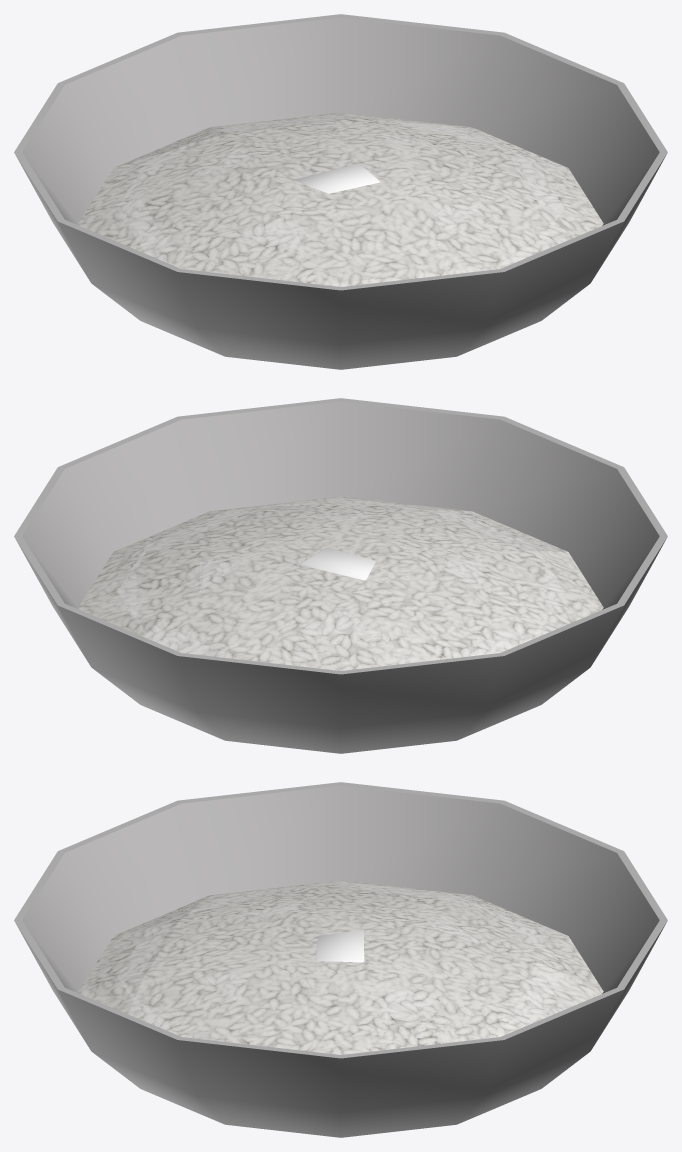
File: risengrod.glb
3 views of the same model, one above another, from view 1: azimuth 30°, elevation 25°; view 2: azimuth 150°, elevation 25°; view 3: azimuth 270°, elevation 25° (orthographic).
Visible parts, largest first — view 1: Circle; view 2: Circle; view 3: Circle.
Boxes of the visible parts, x1=… form: Circle: x1=14, y1=14, x2=667, y2=369; Circle: x1=14, y1=398, x2=667, y2=753; Circle: x1=14, y1=782, x2=667, y2=1137.
Size of the model in its own units: 0.2 by 0.05 by 0.2.
Materials: 4 (1 with a texture image).
